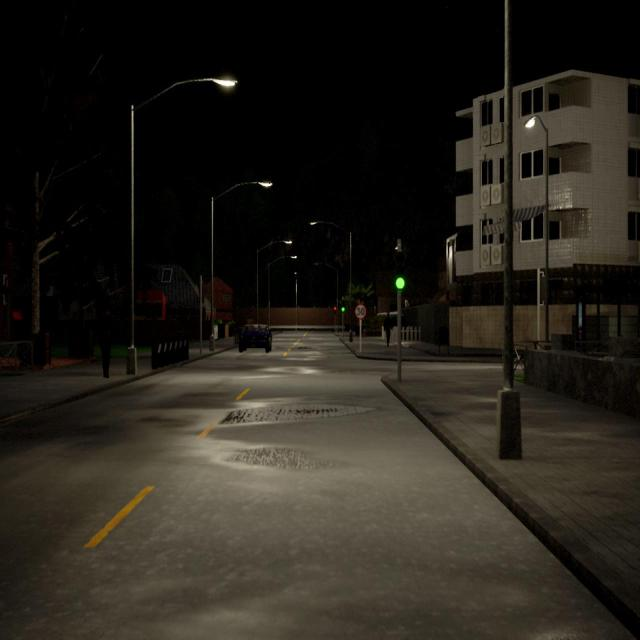Pedestrian: (97, 302, 113, 378), (382, 312, 396, 347)
Traffic_Signs: (355, 304, 366, 320)
Vehicle: (238, 324, 272, 352)
traffic_light: (394, 245, 408, 295), (537, 271, 548, 308), (198, 281, 205, 304), (341, 299, 346, 314), (333, 305, 336, 315)
